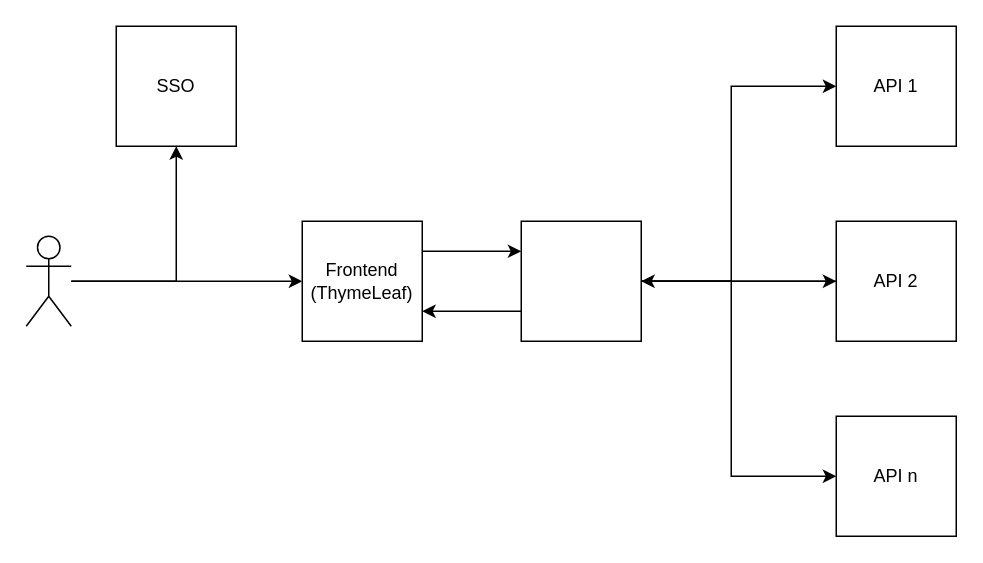
Image size: 983x563. Some labels were removed from this diagram. The centre of each missing label's shape, as x and y in pixels:
Actor: point 48,280
Backend (Java/Spring): point 580,280
